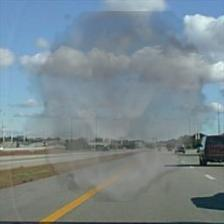fire: (22, 11, 221, 202)
